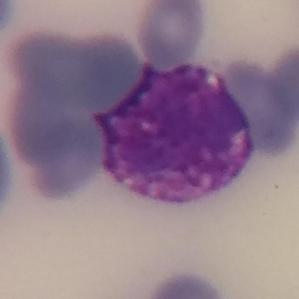Basophil: (93, 52, 257, 212)
RBC: (5, 26, 97, 108), (220, 58, 294, 156), (6, 81, 81, 163), (64, 34, 142, 112), (29, 117, 102, 200), (134, 0, 210, 72), (143, 268, 230, 299), (269, 42, 299, 123), (0, 116, 17, 222), (0, 0, 18, 41)
